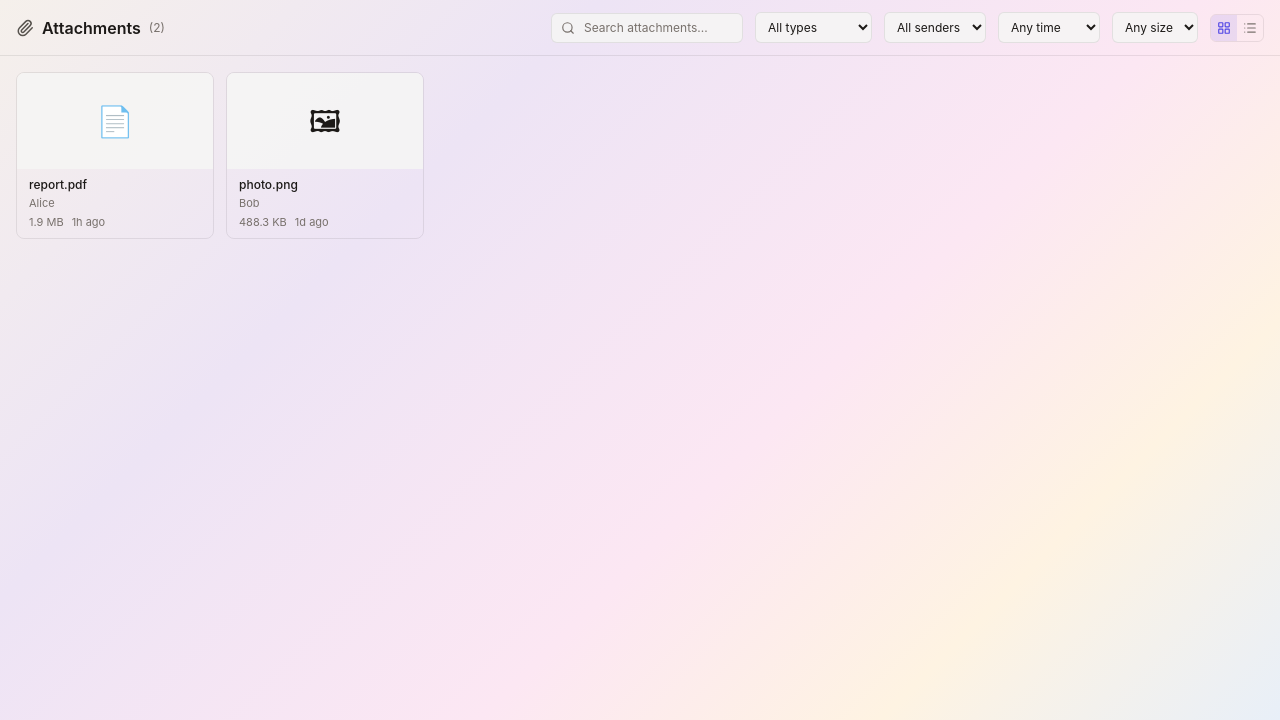
Test: AttachmentLibrary › filters by type
Expected: the text "report.pdf" is shown, [29,177,87,192]
// Select "Images" type filter
Step 1. Select "Images" in the 1st dropdown showing "All types" → (814, 28), box [755,12,872,43]
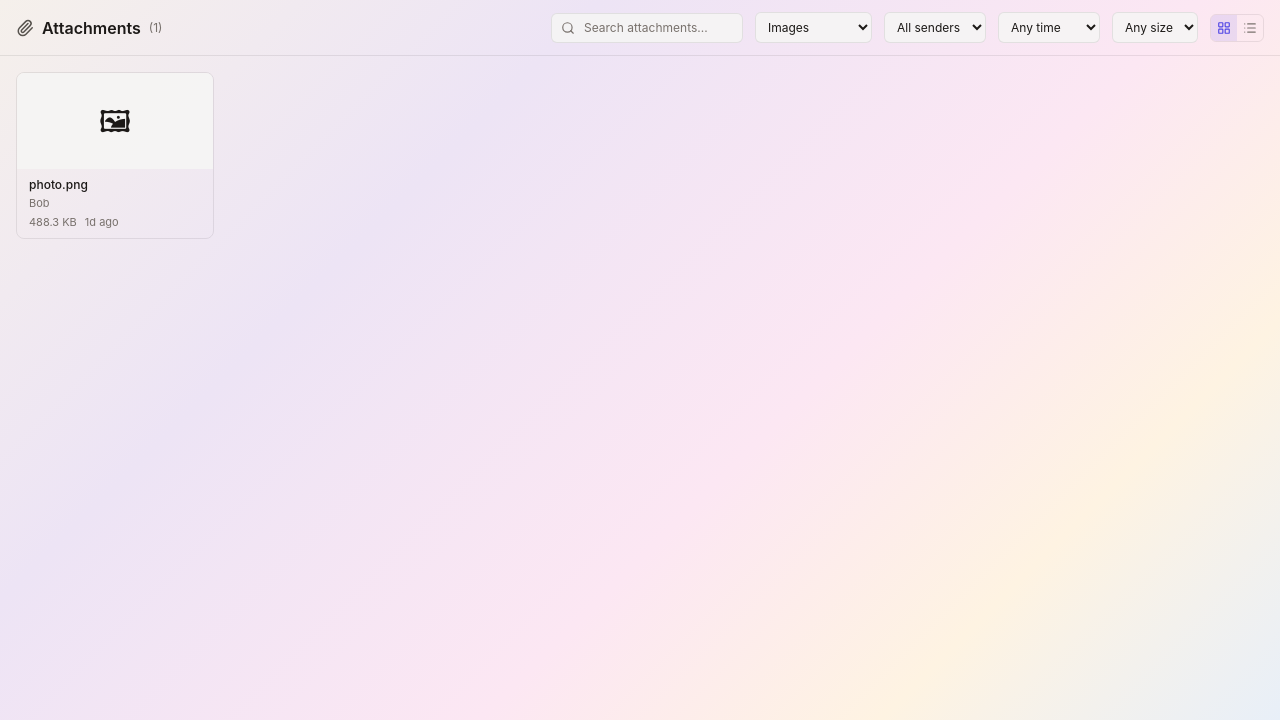
Expected: the text "photo.png" is shown, [29,177,88,192]
Expected: the text "report.pdf" is gone
